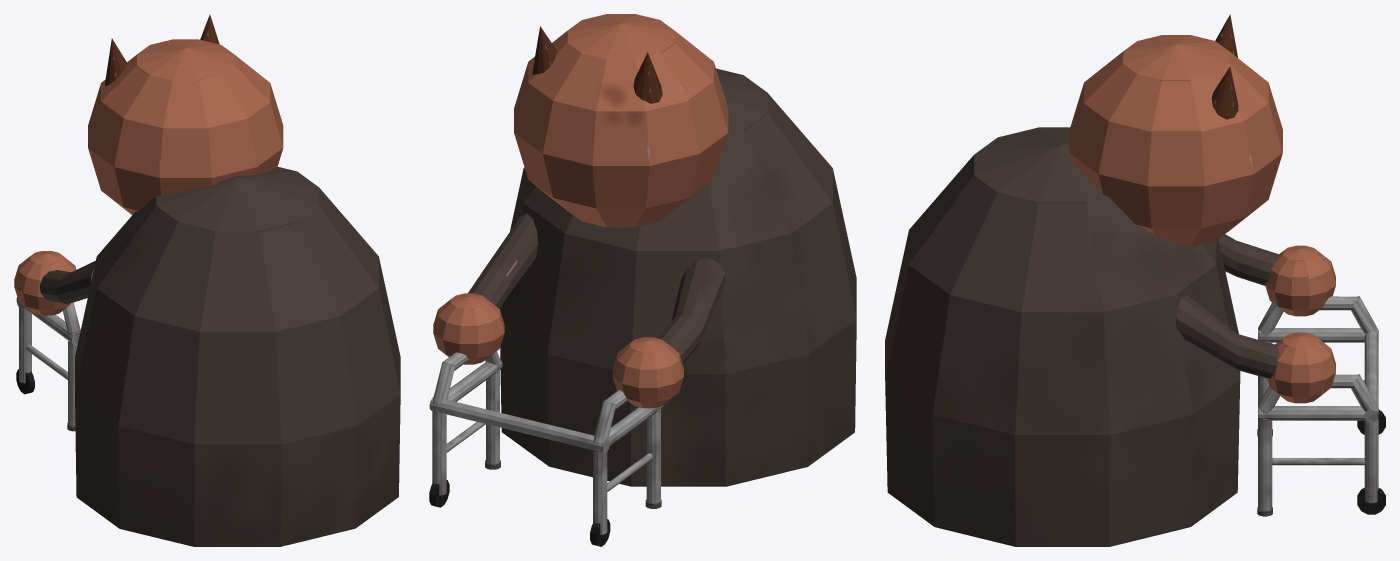
File: Werther.fbx
3 renders of one model, left to right at view 1: azimuth 30°, elevation 25°; view 2: azimuth 150°, elevation 25°; view 3: azimuth 270°, elevation 25°, orthographic. The views are drawn at different scales.
Visible parts, largest first — view 1: Torso, Base_1, Hand_Left, Elbow_Left, cylinder_4, cylinder_5, Horn_Left, cylinder_7; view 2: Torso, Base_1, Hand_Left, Hand_Right, Elbow_Left, Elbow_Right, cylinder, cylinder_5, cylinder_4, cylinder_2, cylinder_14, Horn_Left (+5 smaller); view 3: Torso, Base_1, Elbow_Right, Hand_Left, Hand_Right, Elbow_Left, cylinder_1, cylinder_14, cylinder_2, cylinder_7, cylinder, Horn_Right (+1 smaller).
Boxes of the visible parts, x1=… form: Torso: x1=75, y1=167, x2=400, y2=546; Base_1: x1=88, y1=39, x2=283, y2=214; Hand_Left: x1=14, y1=251, x2=76, y2=315; Elbow_Left: x1=39, y1=261, x2=95, y2=303; cylinder_4: x1=19, y1=307, x2=31, y2=383; cylinder_5: x1=67, y1=340, x2=77, y2=431; Horn_Left: x1=105, y1=38, x2=126, y2=85; cylinder_7: x1=22, y1=304, x2=79, y2=344; Torso: x1=500, y1=68, x2=856, y2=486; Base_1: x1=514, y1=14, x2=728, y2=227; Hand_Left: x1=612, y1=337, x2=683, y2=408; Hand_Right: x1=433, y1=293, x2=504, y2=364; Elbow_Left: x1=658, y1=258, x2=724, y2=363; Elbow_Right: x1=468, y1=213, x2=537, y2=308; cylinder: x1=429, y1=397, x2=609, y2=452; cylinder_5: x1=645, y1=409, x2=661, y2=508; cylinder_4: x1=593, y1=449, x2=607, y2=534; cylinder_2: x1=432, y1=410, x2=446, y2=495; cylinder_14: x1=485, y1=369, x2=500, y2=469; Horn_Left: x1=633, y1=52, x2=662, y2=103; Torso: x1=885, y1=127, x2=1240, y2=546; Base_1: x1=1069, y1=35, x2=1282, y2=247; Elbow_Right: x1=1176, y1=295, x2=1278, y2=378; Hand_Left: x1=1265, y1=245, x2=1335, y2=316; Hand_Right: x1=1267, y1=332, x2=1335, y2=403; Elbow_Left: x1=1218, y1=234, x2=1308, y2=285; cylinder_1: x1=1258, y1=406, x2=1367, y2=420; cylinder_14: x1=1257, y1=419, x2=1272, y2=516; cylinder_2: x1=1364, y1=419, x2=1378, y2=503; cylinder_7: x1=1258, y1=328, x2=1365, y2=342; cylinder: x1=1364, y1=331, x2=1378, y2=422; Horn_Right: x1=1211, y1=66, x2=1238, y2=119.
Size of the model in its own units: 62.5 by 84 by 88.12.
Materials: 1 (1 with a texture image).
